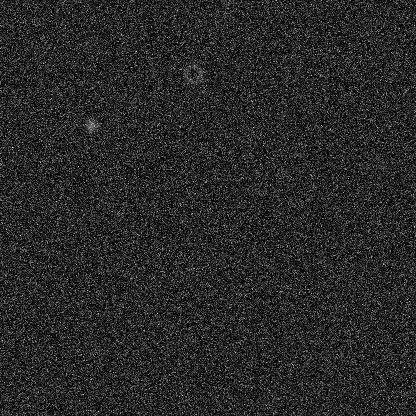Ring: (181, 61, 205, 85)
Spot: (372, 157, 388, 173), (83, 117, 99, 133)
